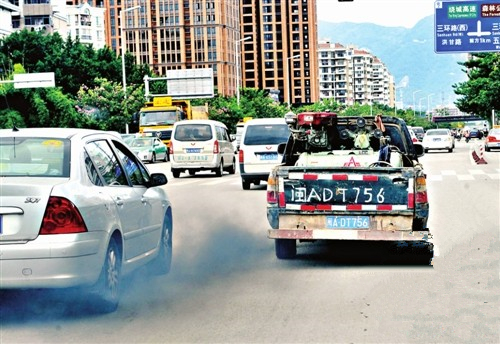smoke: (123, 200, 270, 317)
